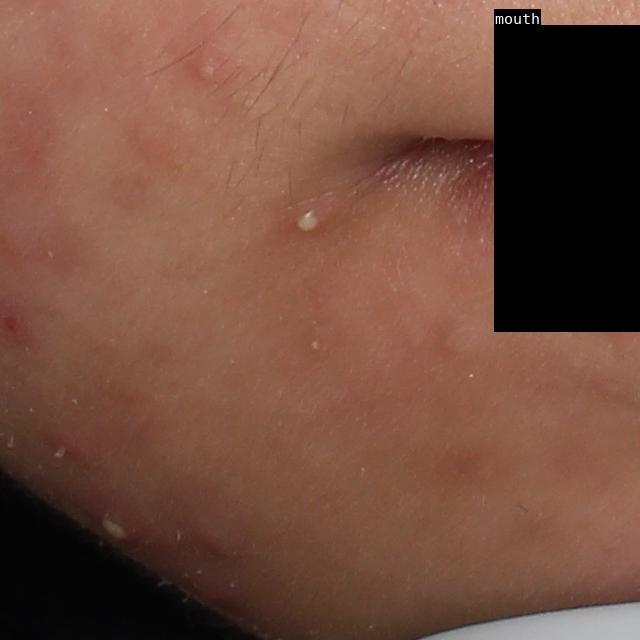comedo: (432, 319, 477, 362)
pustule: (95, 508, 136, 548), (290, 206, 324, 237)
